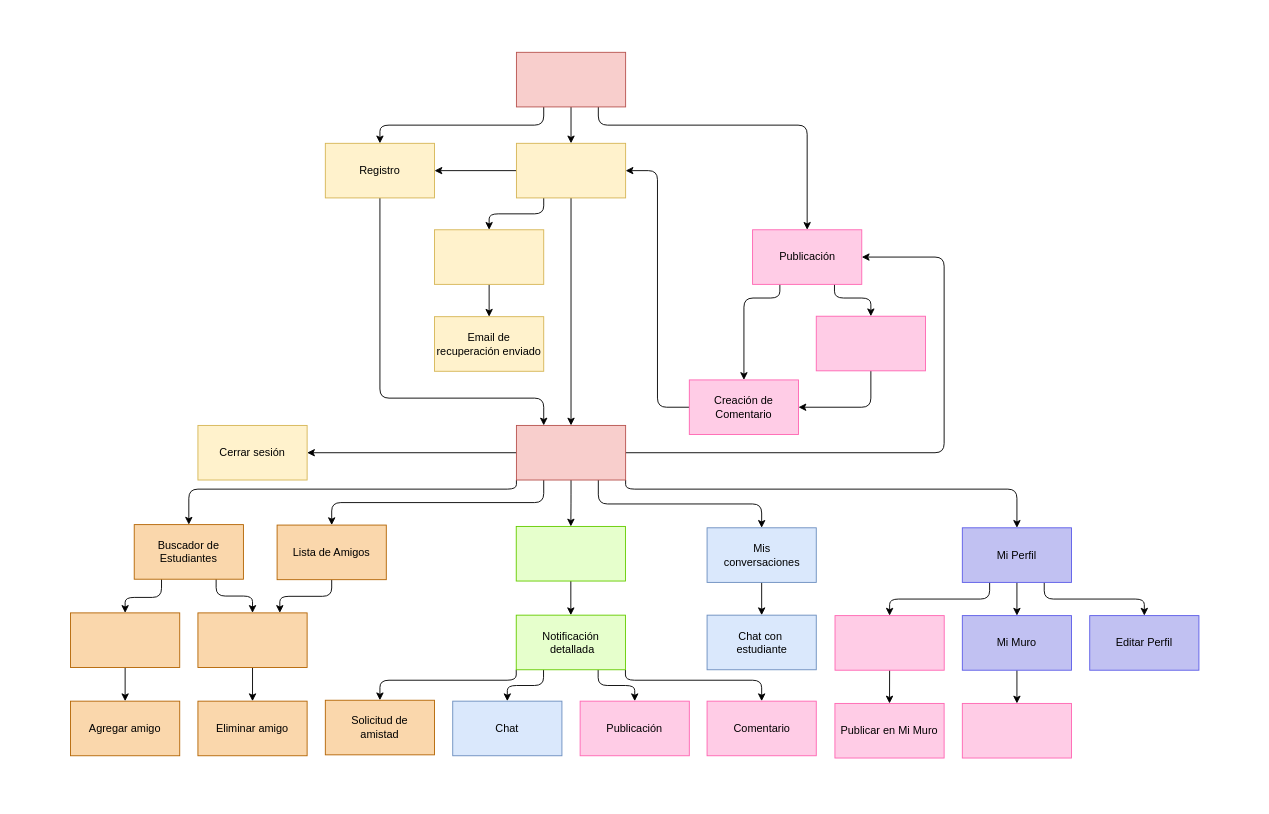
The diagram is 1269 pixels wide and 814 high, and some of its shapes have lost their labels. Here are the shapes that lost their labels. From the top down, the centre of each, then its label:
(x=571, y=79): Pagina Principal
(x=571, y=170): Iniciar sesión
(x=489, y=256): Recuperación de Contraseña
(x=870, y=343): Comentarios
(x=571, y=452): Para ti
(x=570, y=553): Notificaciones
(x=125, y=639): Perfil de Estudiante
(x=252, y=639): Perfil de Amigo
(x=889, y=642): Creación de Publicación
(x=1016, y=730): Ver mis Publicación
